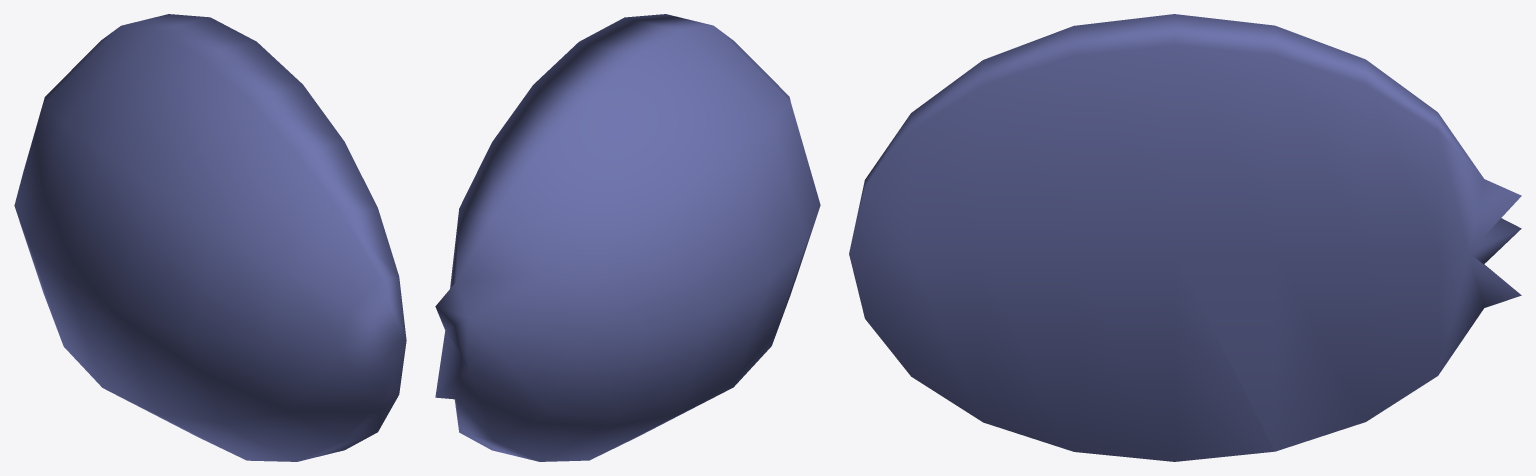
File: Ingredient_Chicken_Half.fbx
The picture shows the model from 3 angles, left to right: view 1: azimuth 30°, elevation 25°; view 2: azimuth 150°, elevation 25°; view 3: azimuth 270°, elevation 25°; orthographic projection. The views are drawn at different scales.
Parts seen in each view (by area): view 1: Chicken_Half; view 2: Chicken_Half; view 3: Chicken_Half.
Boxes of the visible parts, <box> form: Chicken_Half: <box>14,14,406,461</box>; Chicken_Half: <box>435,14,820,461</box>; Chicken_Half: <box>849,14,1521,461</box>.
Bounding box in the file's own units: 13.88 × 26.32 × 38.55.
